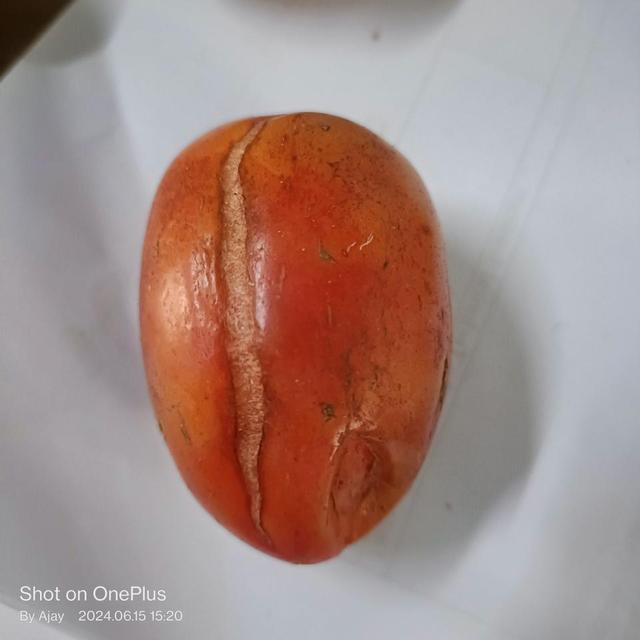Cracking Fruit: (73, 34, 219, 241)
